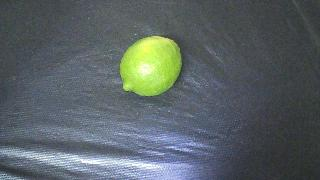LOCAL: (119, 36, 182, 96)
